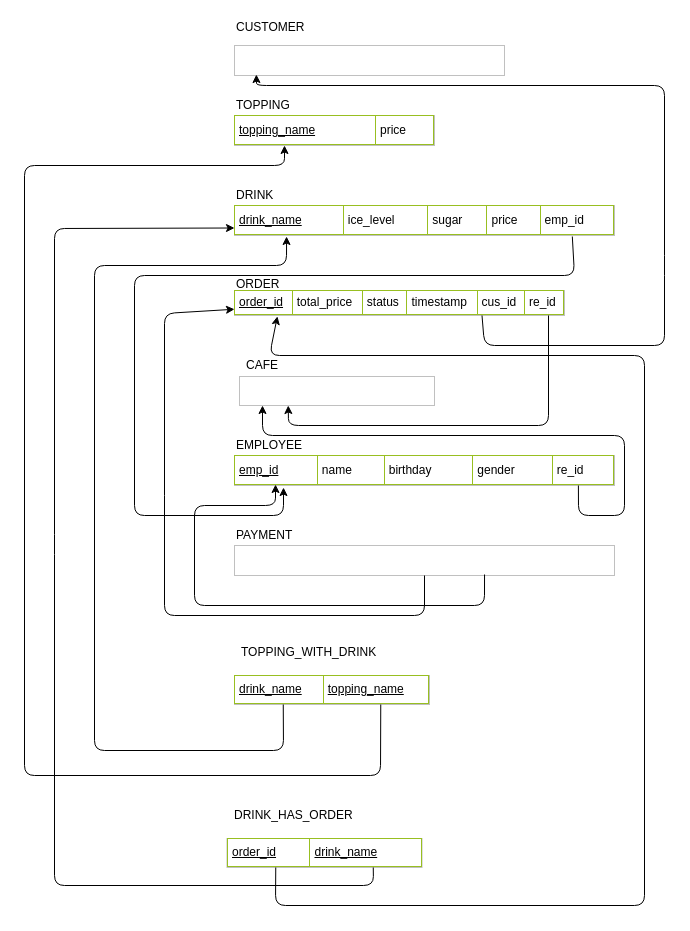
This 690x931 diagram has some shape labels left out. Each missing label, with the centre of its shape:
"cus_id points account_balance password" goes at (x=369, y=60).
"payment_id order_id emp_id platform" goes at (x=424, y=560).
"re_id location" goes at (x=336, y=391).
